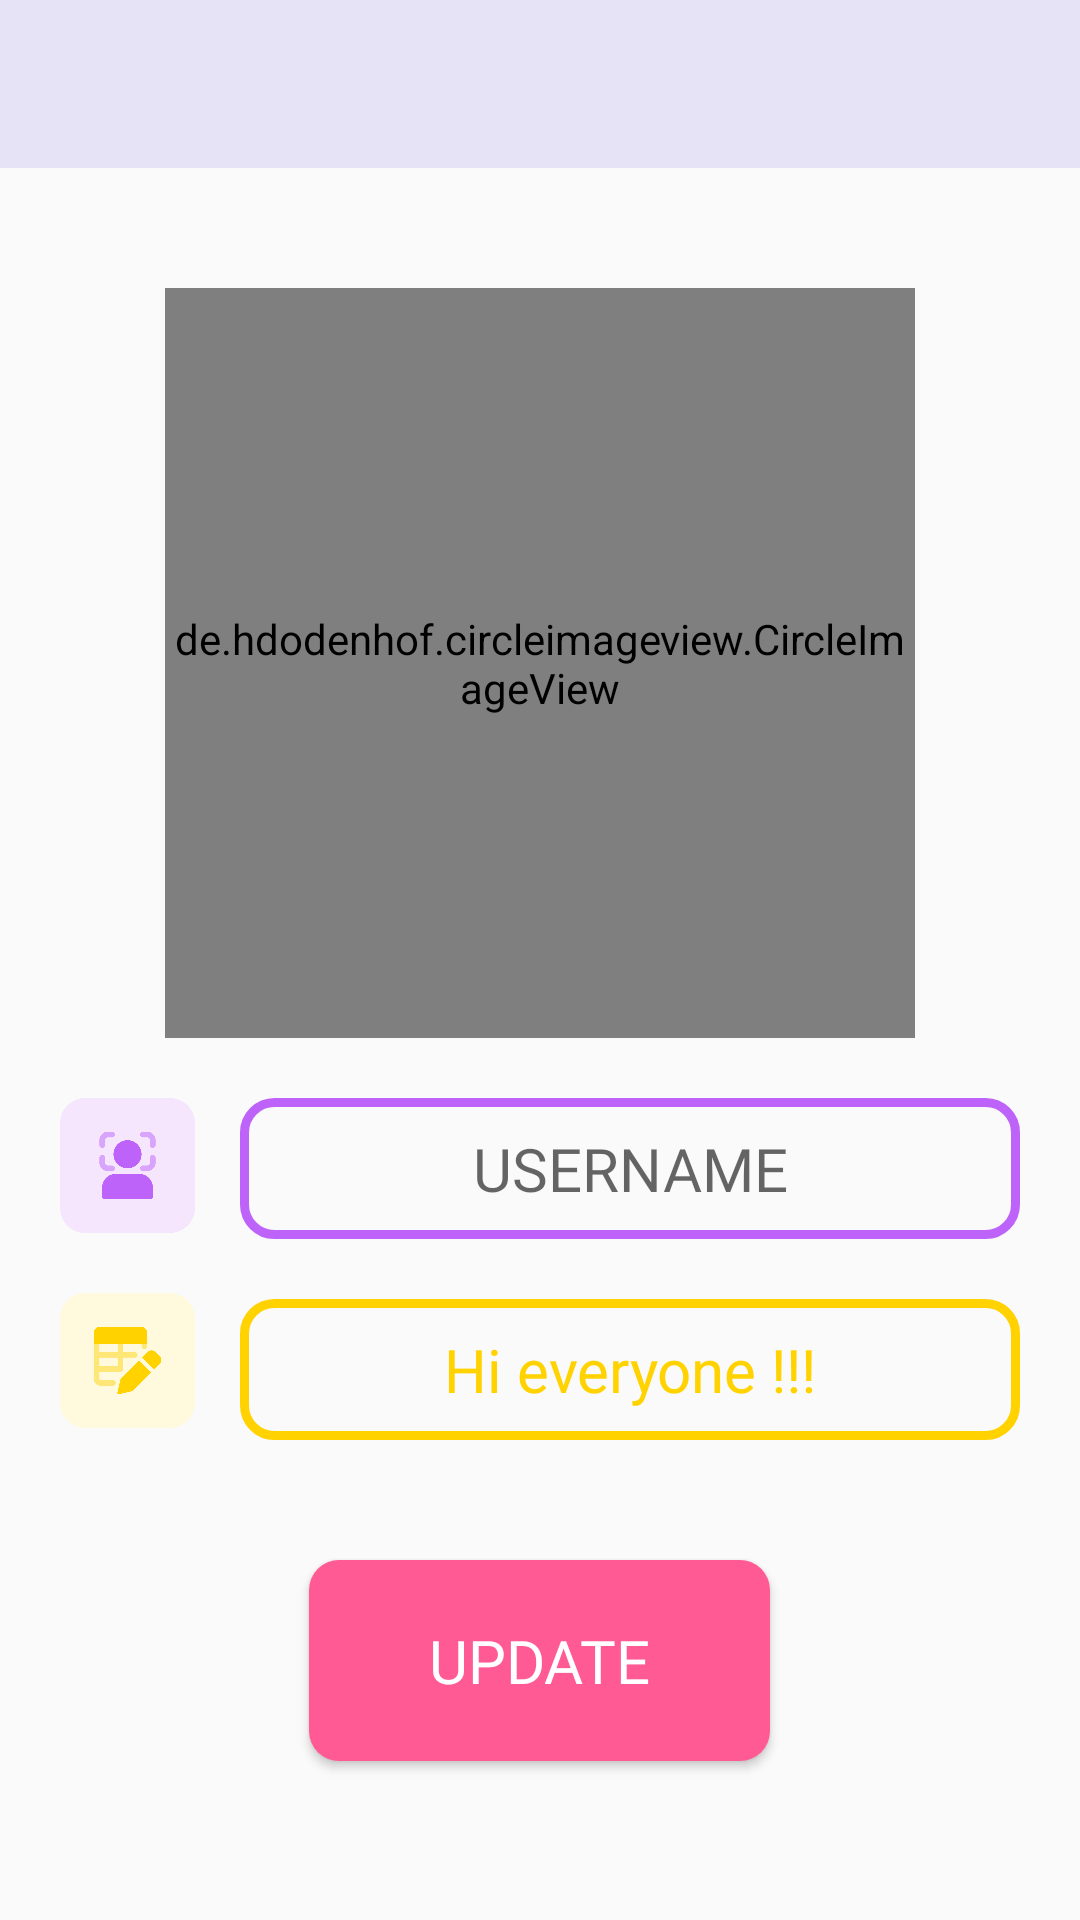

Icons on this 1080px×1920px Android screen, each with its box as (x1,y1,x2,y2):
edit profile: (99,1132,156,1199)
